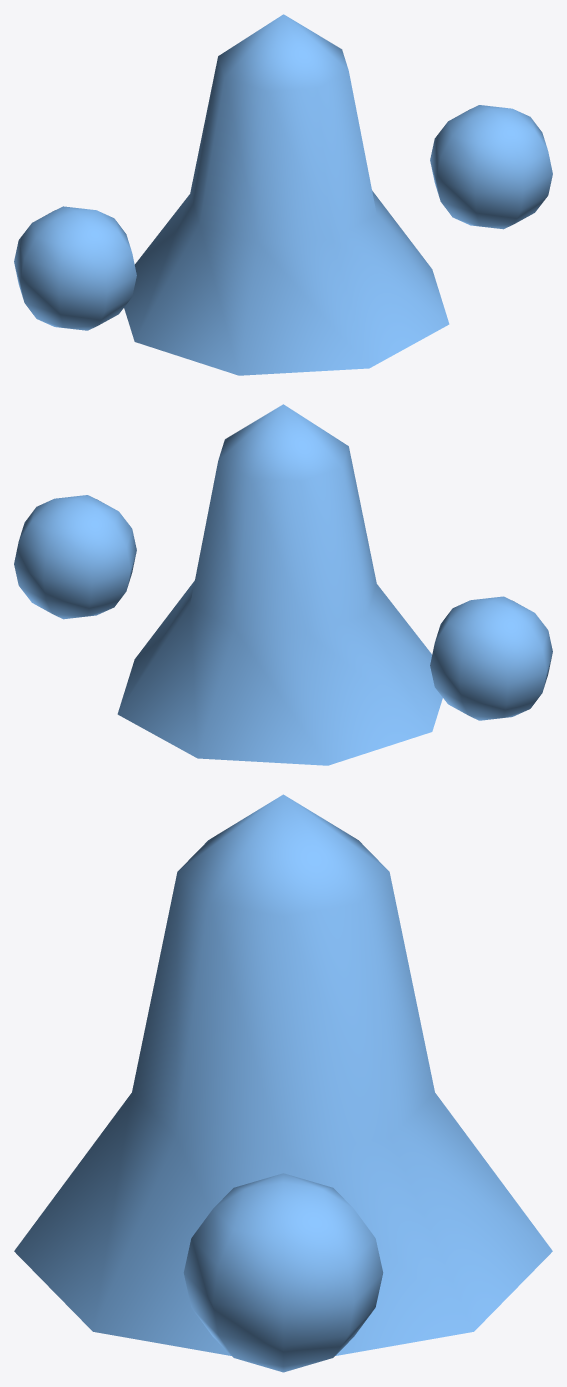
File: female_combined.glb
The picture shows the model from 3 angles, top to bottom: view 1: azimuth 30°, elevation 25°; view 2: azimuth 150°, elevation 25°; view 3: azimuth 270°, elevation 25°; orthographic projection. The views are drawn at different scales.
Parts seen in each view (by area): view 1: bodyPs, handLPs, handRPs; view 2: bodyPs, handLPs, handRPs; view 3: bodyPs, handRPs.
Boxes of the visible parts, left/top/right/bottom form: bodyPs: left=124, top=14, right=449, bottom=375; handLPs: left=14, top=206, right=136, bottom=330; handRPs: left=430, top=105, right=552, bottom=229; bodyPs: left=117, top=404, right=442, bottom=765; handLPs: left=430, top=596, right=552, bottom=720; handRPs: left=14, top=495, right=136, bottom=619; bodyPs: left=14, top=794, right=552, bottom=1355; handRPs: left=183, top=1173, right=383, bottom=1372.
Size of the model in its own units: 97.68 by 60.23 by 55.25.
